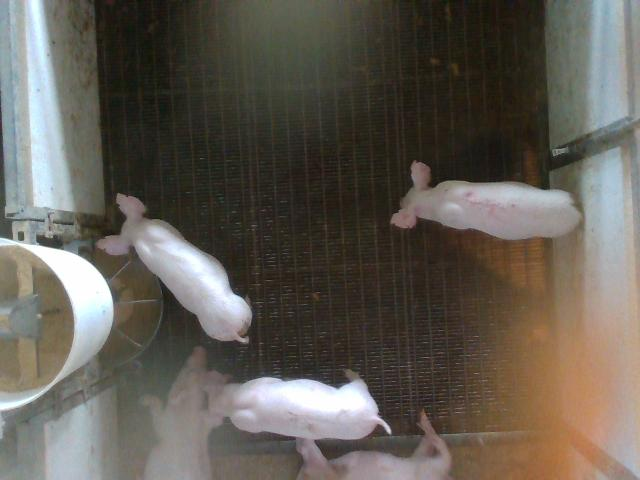pig-5: (392, 161, 581, 239)
